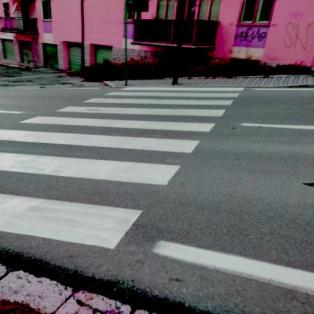Paso de Cebra: (15, 104, 231, 136)
